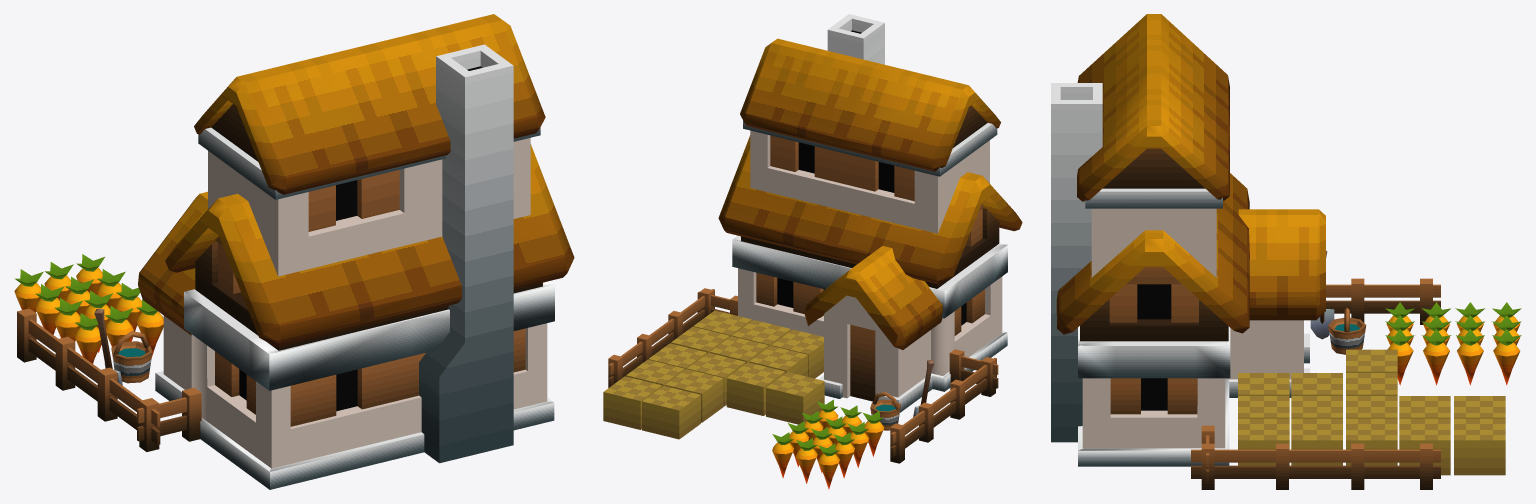
Rendered from farm_lvl6.fbx.
3 renders of one model, left to right at view 1: azimuth 30°, elevation 25°; view 2: azimuth 150°, elevation 25°; view 3: azimuth 270°, elevation 25°, orthographic. The views are drawn at different scales.
Visible parts, largest first — view 1: farm_lvl6.001; view 2: farm_lvl6.001; view 3: farm_lvl6.001.
Boxes of the visible parts, bbox=[...] form: farm_lvl6.001: bbox=[14, 14, 574, 489]; farm_lvl6.001: bbox=[603, 14, 1022, 489]; farm_lvl6.001: bbox=[1051, 14, 1521, 489].
Bounding box in the file's own units: 0.6432 × 0.6067 × 0.7303.
